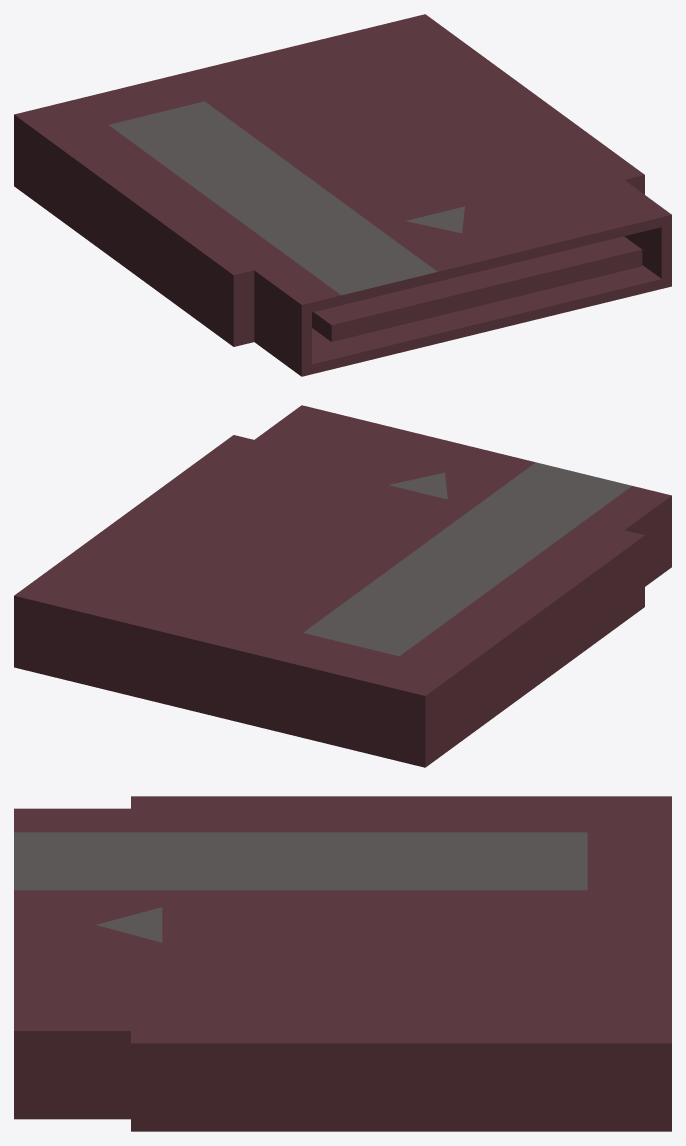
File: electronics-cartridge-game-d.glb
The picture shows the model from 3 angles, top to bottom: view 1: azimuth 30°, elevation 25°; view 2: azimuth 150°, elevation 25°; view 3: azimuth 270°, elevation 25°; orthographic projection. The views are drawn at different scales.
Visible parts, largest first — view 1: cartridge-game-d; view 2: cartridge-game-d; view 3: cartridge-game-d.
Boxes of the visible parts, x1,y1,x2,y2 form: cartridge-game-d: (14,14,671,376); cartridge-game-d: (14,405,671,767); cartridge-game-d: (14,796,671,1131).
Bounding box in the file's own units: 0.132 × 0.022 × 0.1485.
